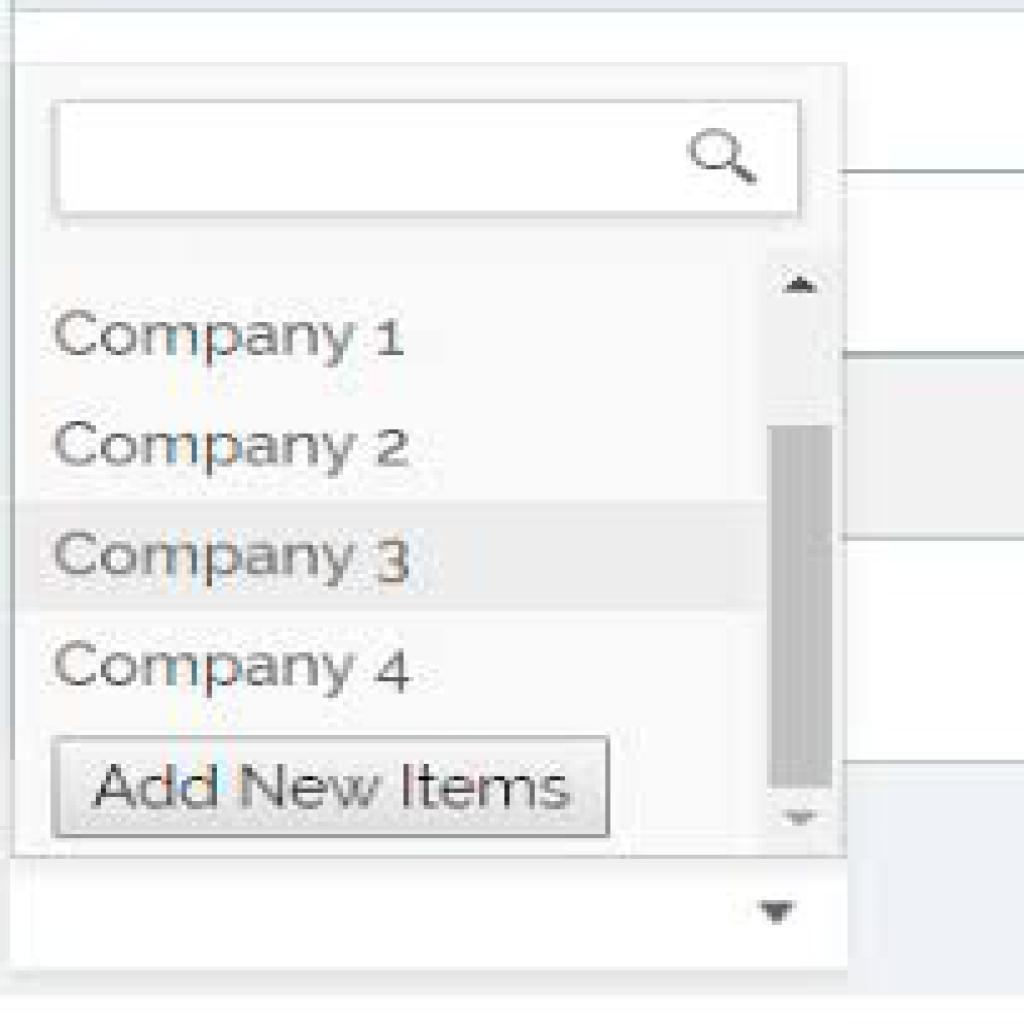button: (51, 732, 613, 838)
dropdown: (1, 859, 848, 973)
input: (51, 101, 795, 218)
